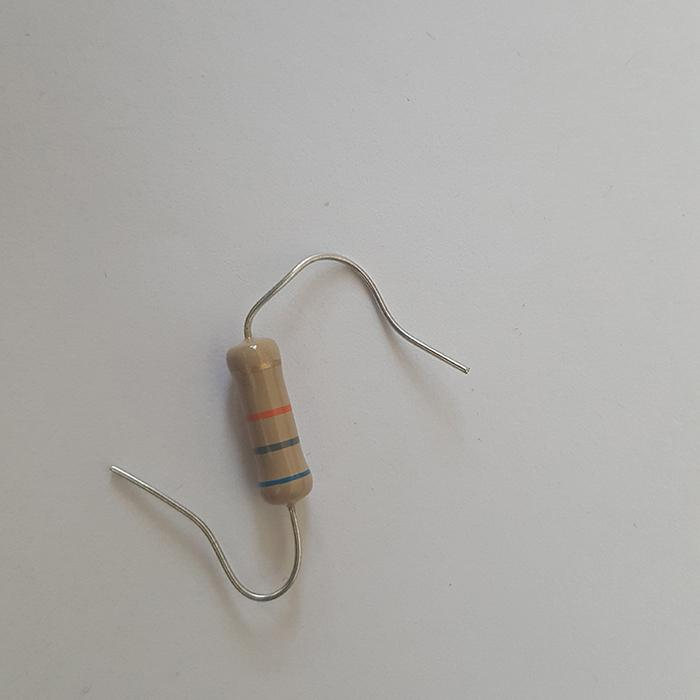resistor: (225, 336, 311, 504)
